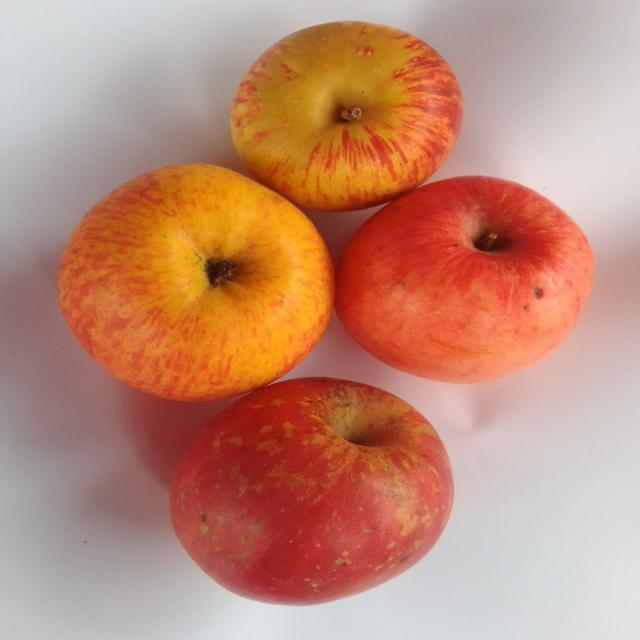Fresh Apple: (175, 375, 453, 603), (62, 165, 333, 397), (328, 166, 600, 376), (228, 15, 462, 208)
